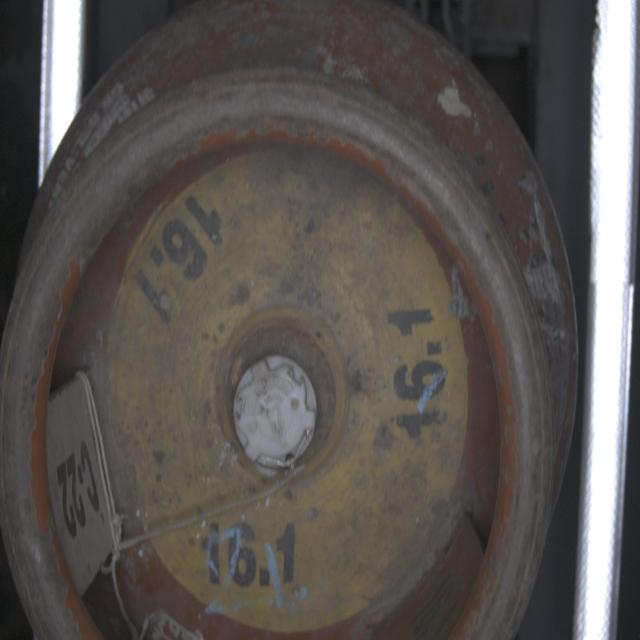Cap: (233, 352, 319, 475)
